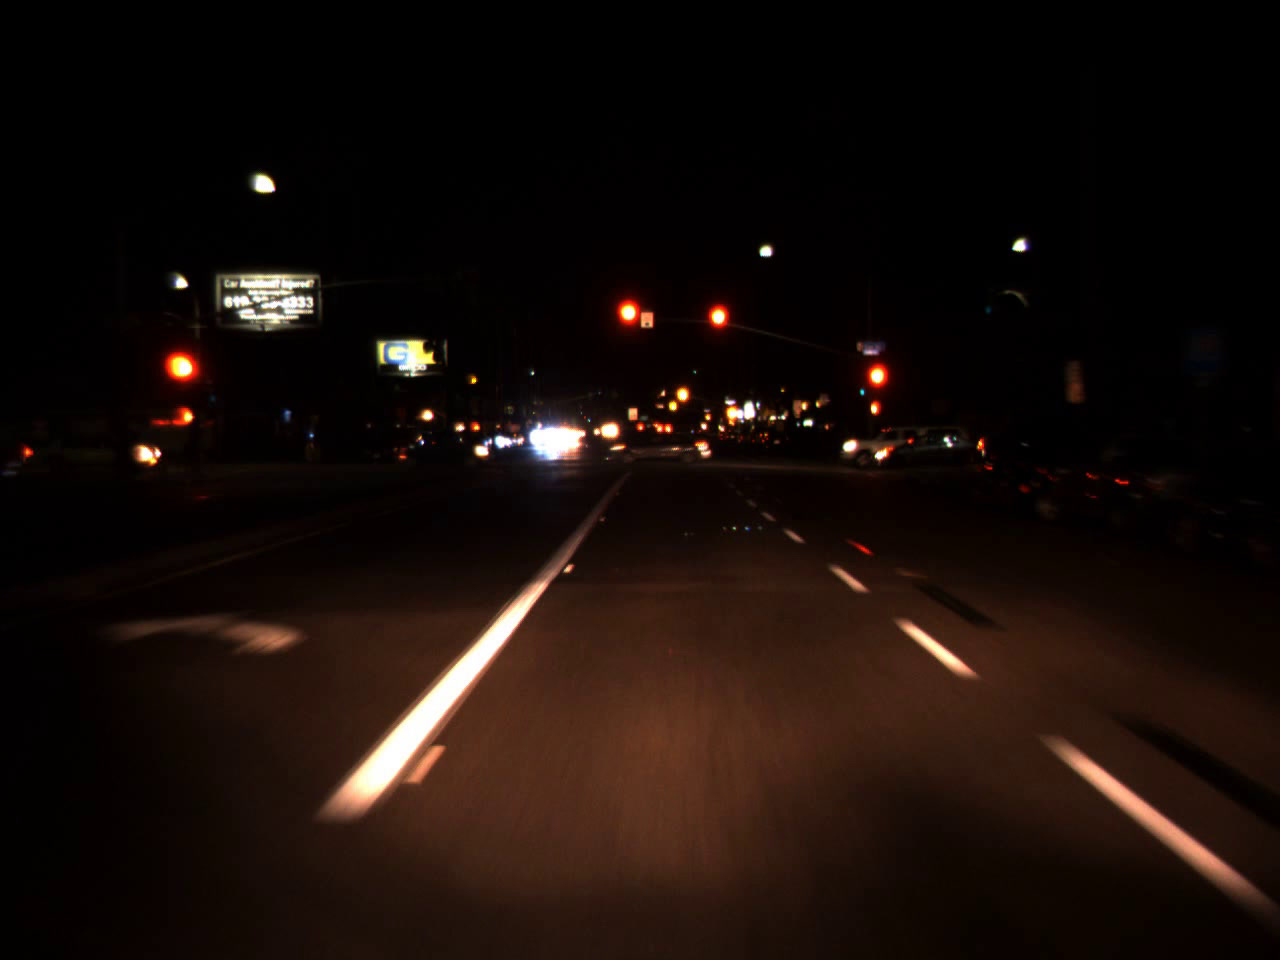stop: (161, 347, 204, 409), (612, 294, 645, 358), (863, 358, 893, 419), (703, 301, 732, 359)
warning: (674, 376, 692, 411), (724, 395, 740, 427), (667, 395, 677, 415), (703, 409, 712, 424)
